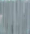No waiting: (1, 1, 27, 33)
